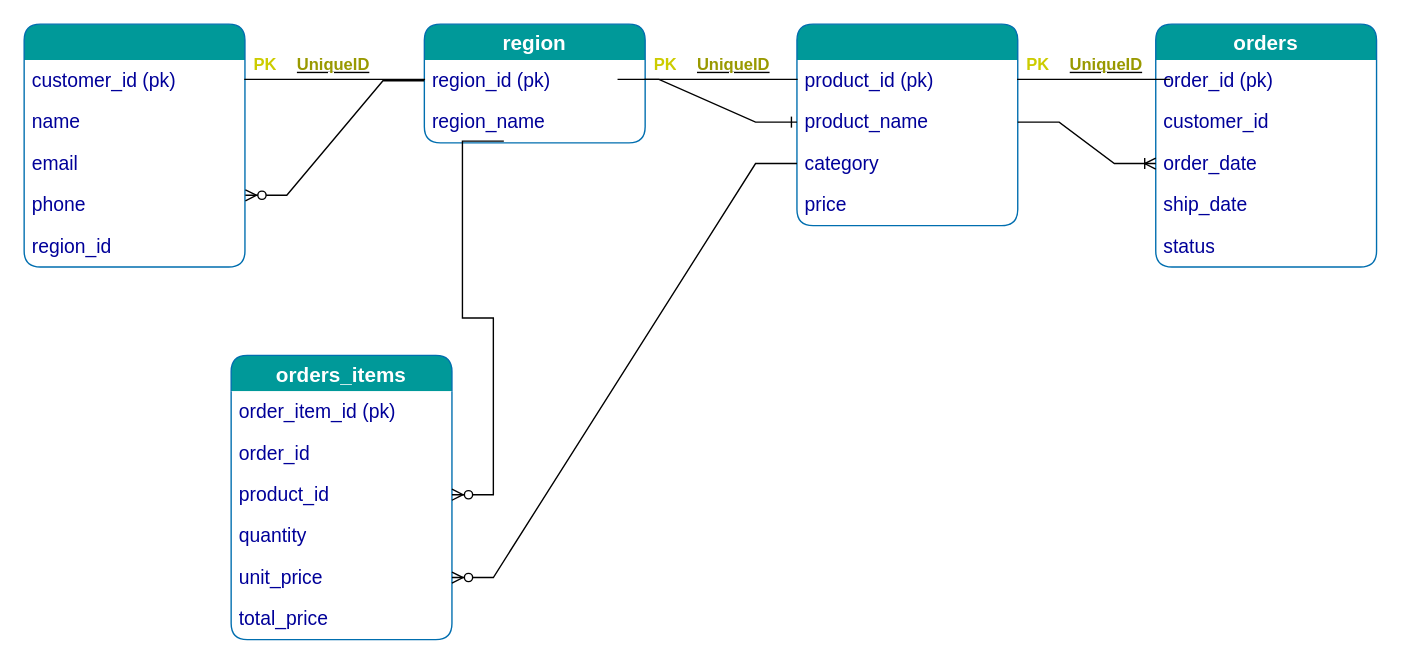
Image size: 1401x668. Some labels were removed from this diagram. Here are the shapes that lost their labels. From the top down, the box of each, then its label:
(796, 23, 1018, 226): products
(23, 23, 245, 267): customers
